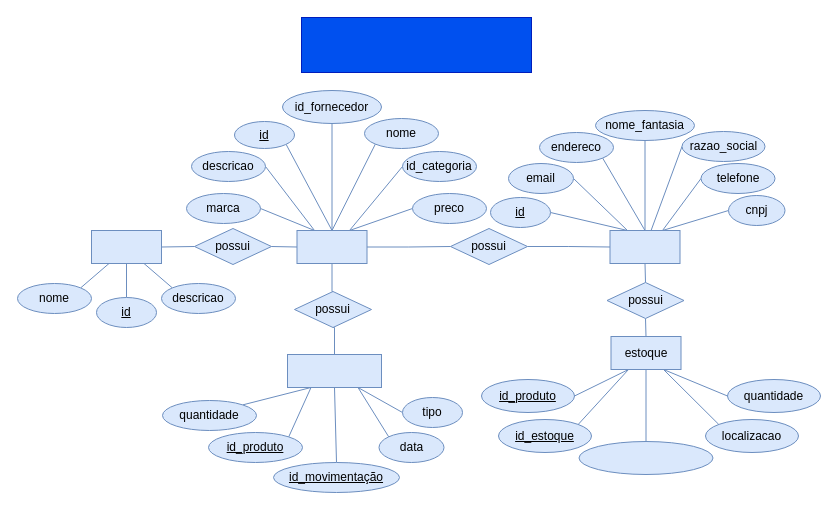
This 838x510 diagram has some shape labels left out. Here are the shapes that lost their labels. From the top down, the centre of each, then its label:
At point 416,44: "MER DER - Conceitual Projeto: Estoque de uma loja".
At point 126,247: "categoria".
At point 331,247: "produto".
At point 644,247: "fornecedor".
At point 334,371: "movimentacao".
At point 645,457: "quantidade_minima".
